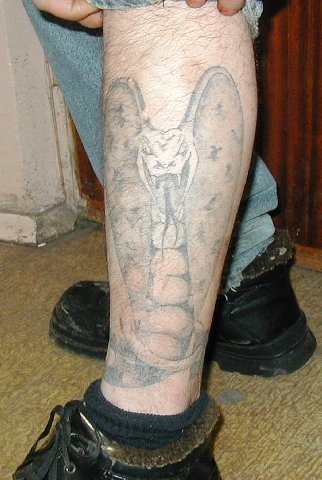tatu7_zmeya: (92, 68, 233, 353)
